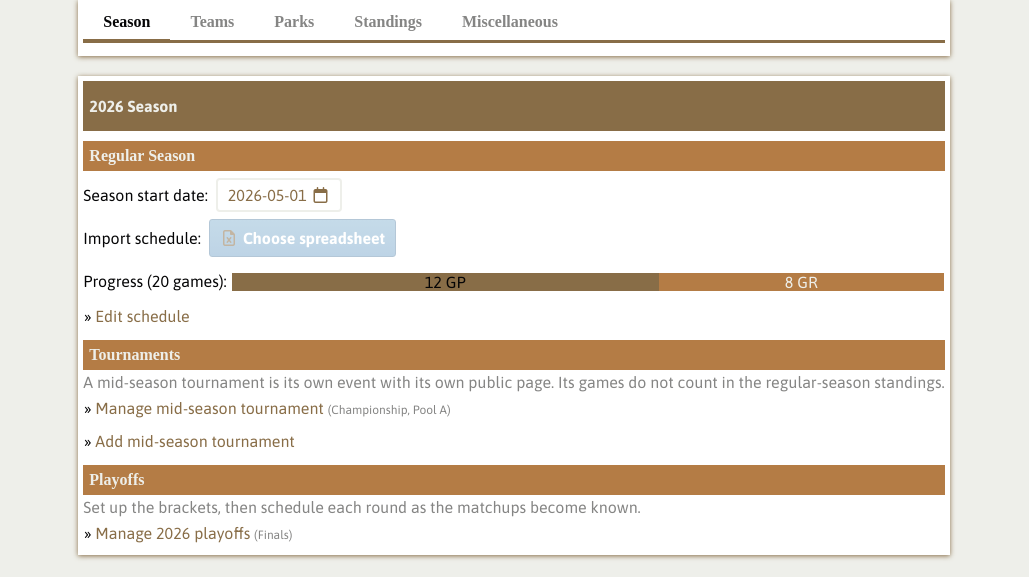
Test: Executive Page › active team has checked checkbox; revealed inactive team is unchecked
Click the button "Teams" at {"x": 212, "y": 24}, box [170,5,254,43]
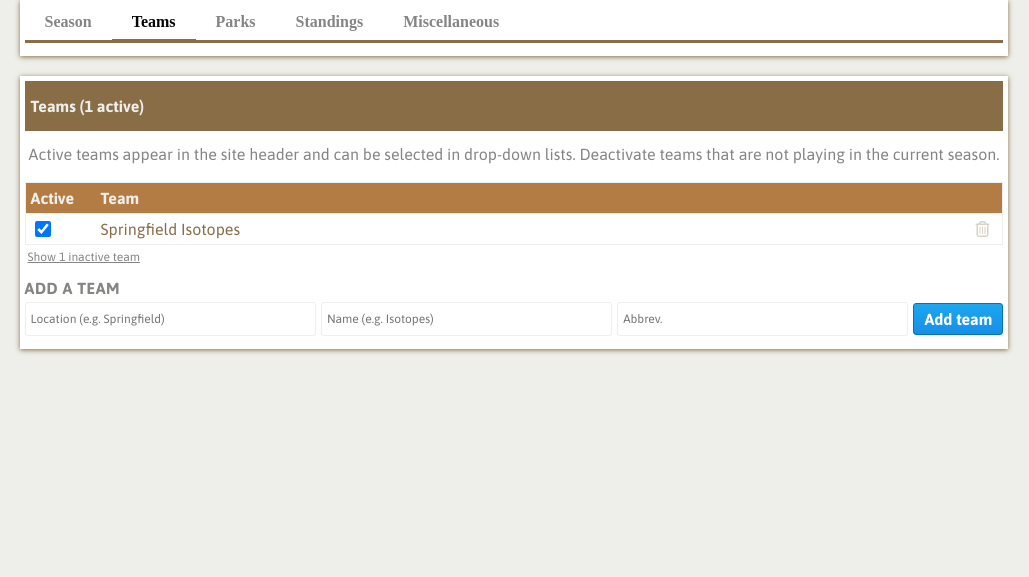
expect the number of checkboxes is 1: met, box [35,221,51,237]
expect the checkbox named "Deactivate Springfield Isotopes" is checked: met, box [35,221,51,237]
Click the button "Show 1 inactive team" at {"x": 84, "y": 257}, box [25,245,143,269]
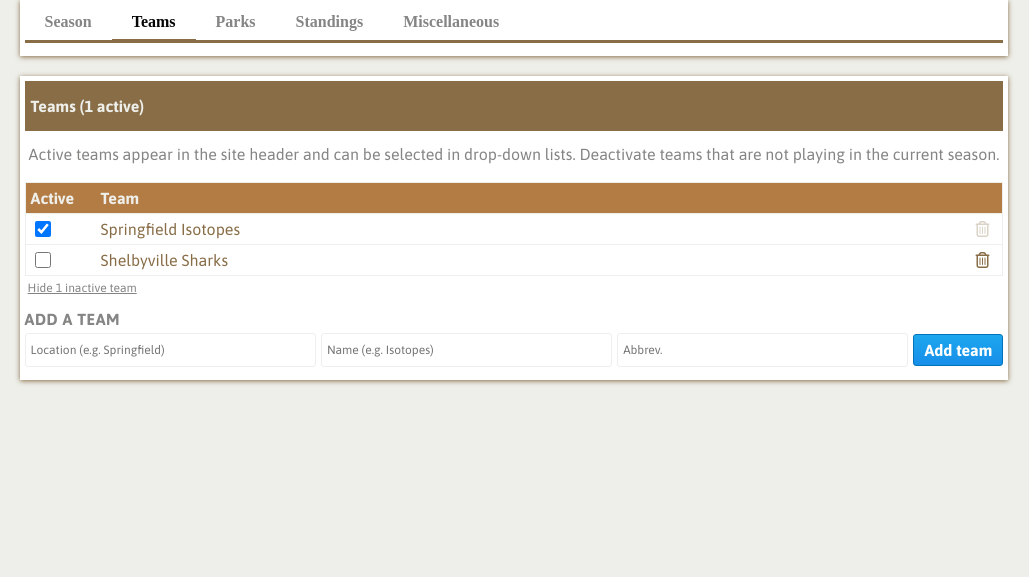
expect the number of checkboxes is 2: met, box [35,221,51,237]; [35,252,51,268]
expect the checkbox named "Activate Shelbyville Sharks" is not checked: met, box [35,252,51,268]
